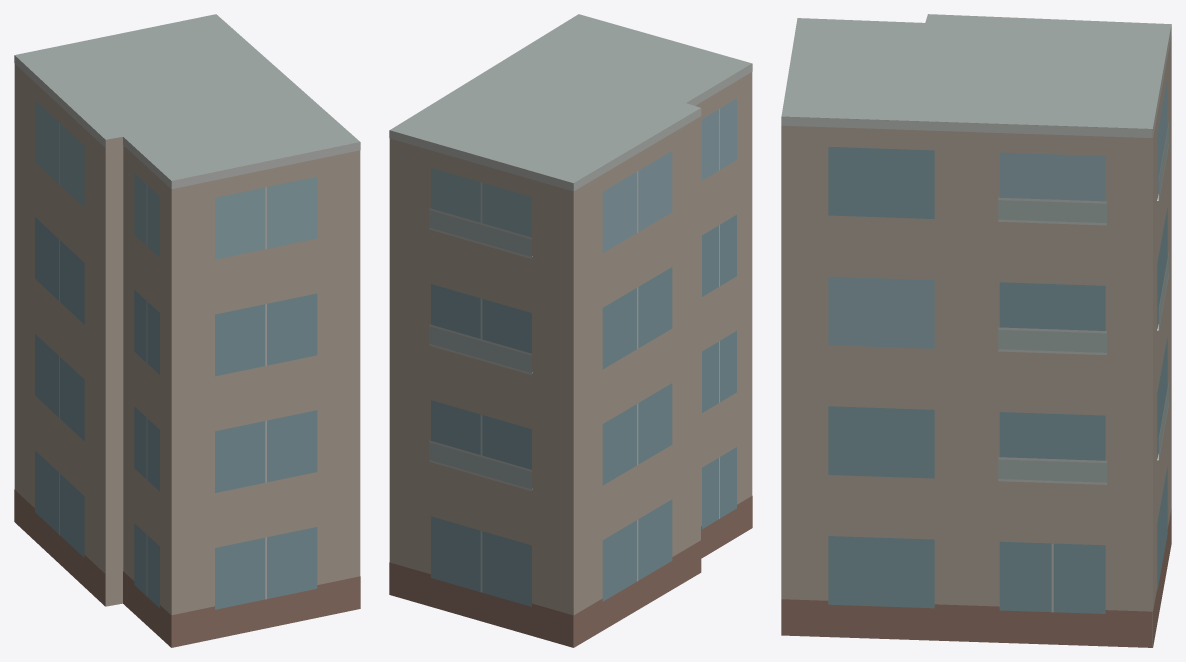
Rendered from survey-upis-32980101.glb.
The picture shows the model from 3 angles, left to right: view 1: azimuth 30°, elevation 25°; view 2: azimuth 150°, elevation 25°; view 3: azimuth 270°, elevation 25°; orthographic projection. The views are drawn at different scales.
Parts seen in each view (by area): view 1: survey-upis-32980101.tmp; view 2: survey-upis-32980101.tmp; view 3: survey-upis-32980101.tmp.
Part boxes in pixels (<box>): survey-upis-32980101.tmp: <box>14,14,360,647</box>; survey-upis-32980101.tmp: <box>389,14,752,647</box>; survey-upis-32980101.tmp: <box>781,14,1171,647</box>.
Size of the model in its own units: 6.57 by 13.8 by 9.41.
